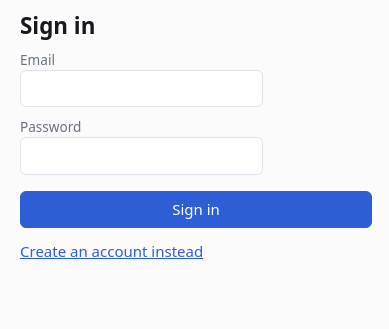
Test: SignInForm › shows the server's message verbatim
In the field labelled "Email": [142, 89] box x1=20 y1=70 x2=263 y2=107, type "a@b.test"
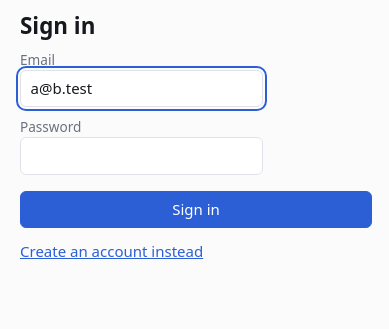
In the password field labelled "Password": [142, 156] box x1=20 y1=137 x2=263 y2=175, type "wrong-password-x"
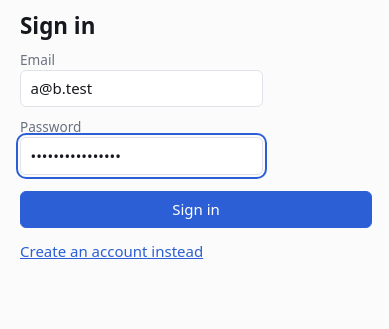
Click the button "Sign in": [196, 209] box x1=20 y1=190 x2=372 y2=228
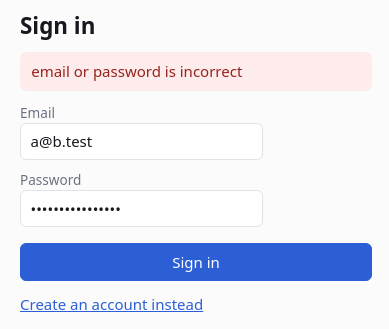
Expected: the message reads "email or password is incorrect", x1=31 y1=61 x2=242 y2=81
